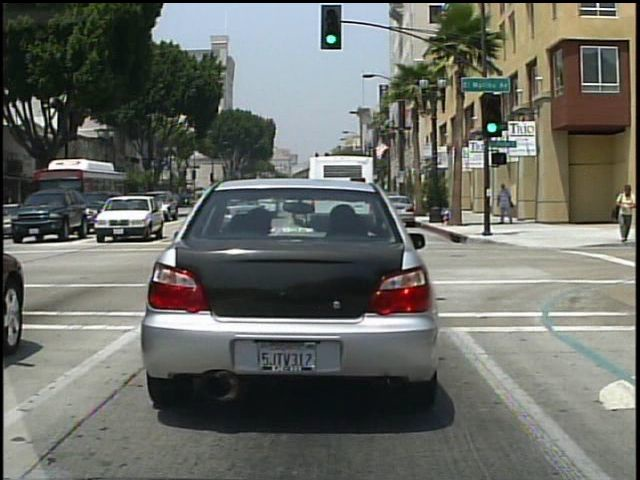person: (609, 184, 636, 243), (495, 182, 516, 226)
